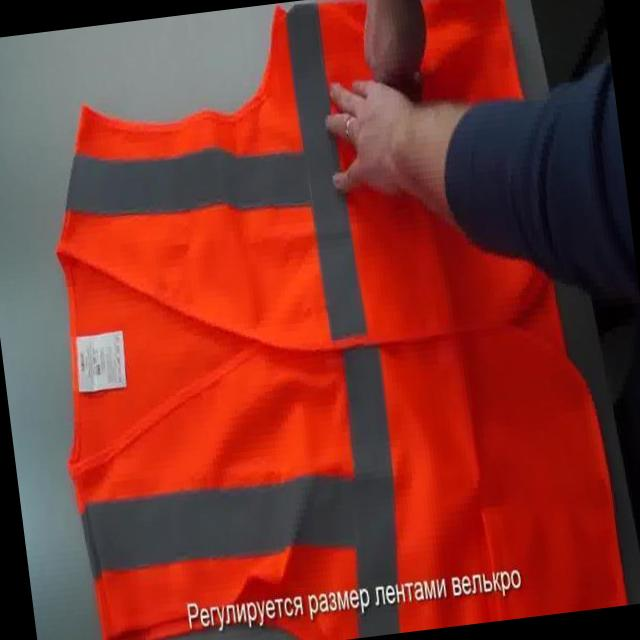safety_vest: (14, 0, 631, 640)
